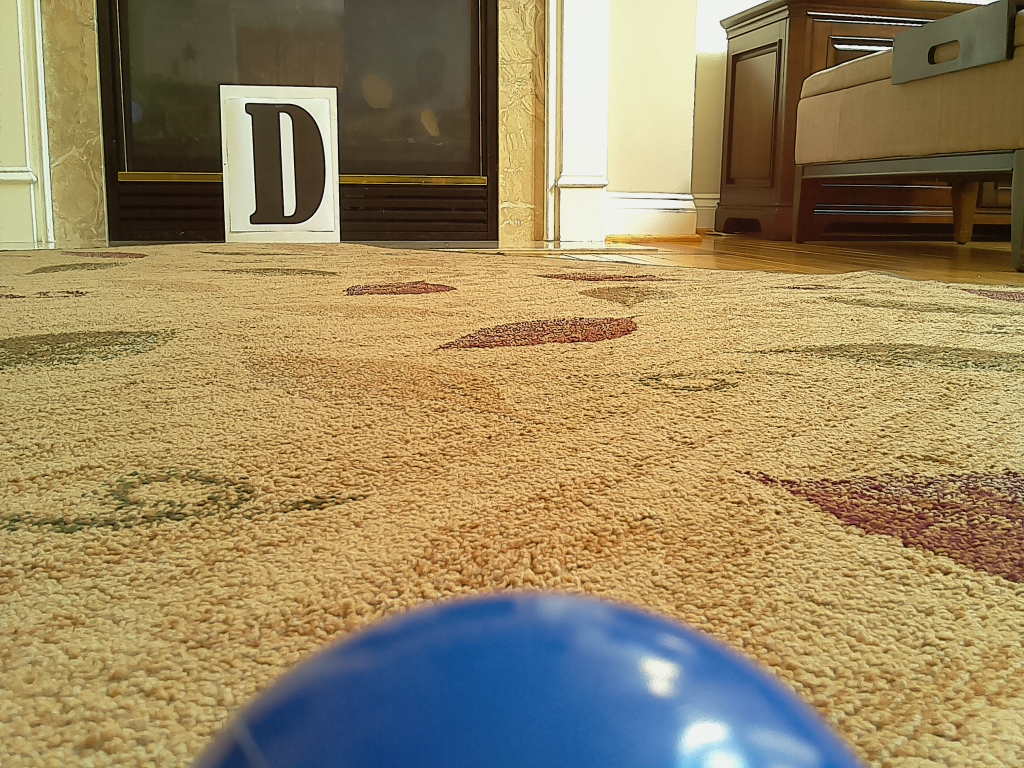letter: (249, 103, 326, 225)
